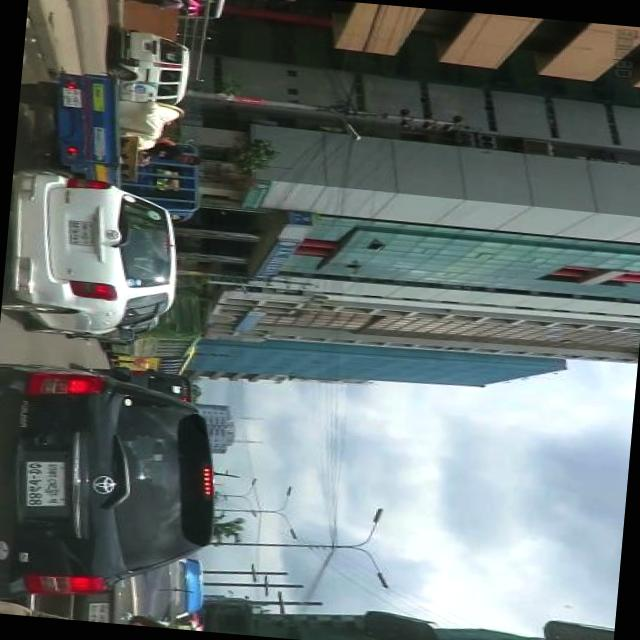bus: (97, 286, 205, 363), (104, 342, 196, 374)
car: (0, 354, 235, 620), (0, 167, 189, 346)
truck: (12, 65, 210, 224), (106, 25, 196, 107)
